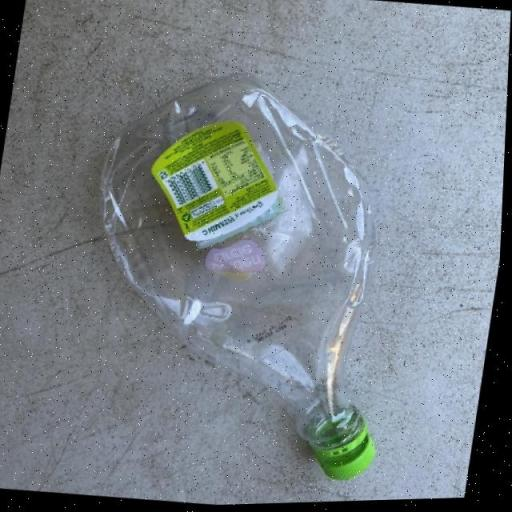plastic: (62, 54, 432, 492)
